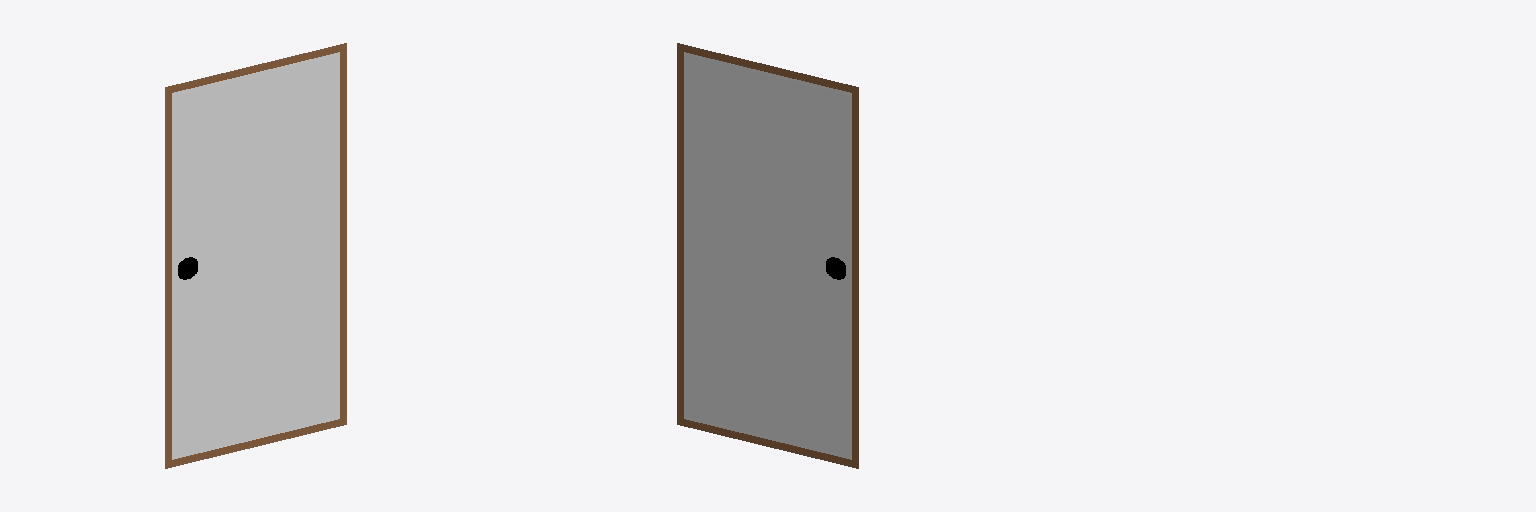
3 views of the same model, side by side, from view 1: azimuth 30°, elevation 25°; view 2: azimuth 150°, elevation 25°; view 3: azimuth 270°, elevation 25° (orthographic).
Visible parts, largest first — view 1: fusumaR; view 2: fusumaR; view 3: none.
Boxes of the visible parts, <box> form: fusumaR: <box>165,43,346,468</box>; fusumaR: <box>677,43,858,468</box>.
Size of the model in its own units: 2 by 4 by 0.
1 materials, 1 textured.